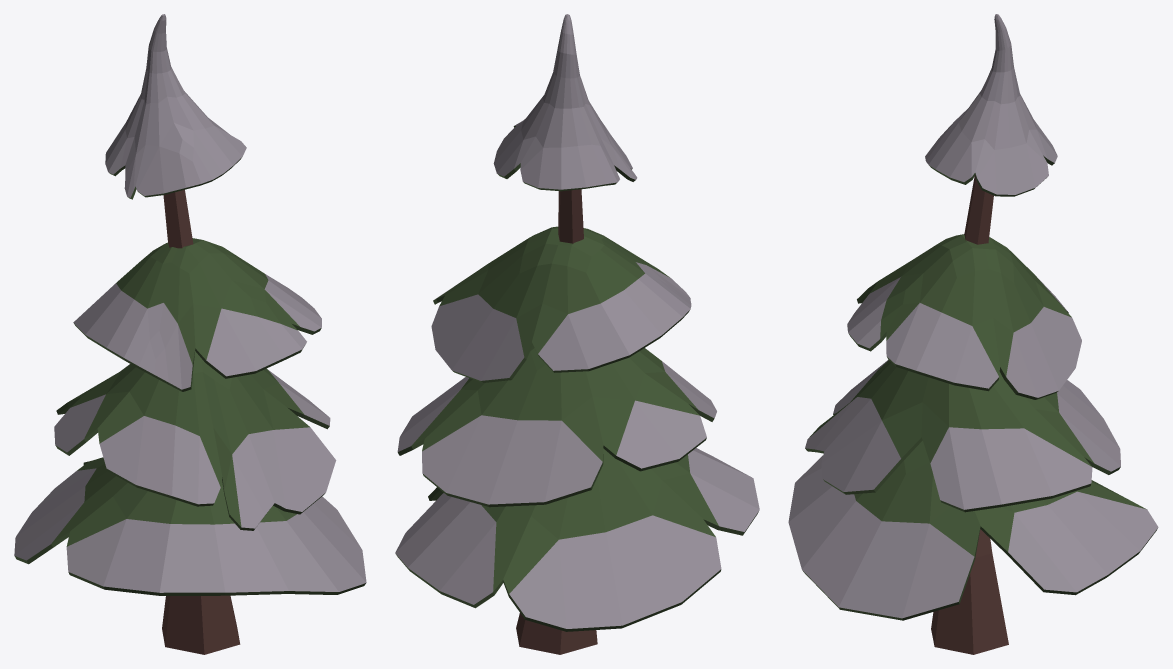
File: PineTree_Snow_2.glb
3 renders of one model, left to right at view 1: azimuth 30°, elevation 25°; view 2: azimuth 150°, elevation 25°; view 3: azimuth 270°, elevation 25°, orthographic. The views are drawn at different scales.
Parts seen in each view (by area): view 1: PineTree_Snow_2; view 2: PineTree_Snow_2; view 3: PineTree_Snow_2.
Part boxes in pixels (x1,y1,x2,y2): PineTree_Snow_2: [14, 14, 366, 654]; PineTree_Snow_2: [395, 14, 759, 654]; PineTree_Snow_2: [788, 14, 1158, 654].
Size of the model in its own units: 1.8 by 3.56 by 1.96.
